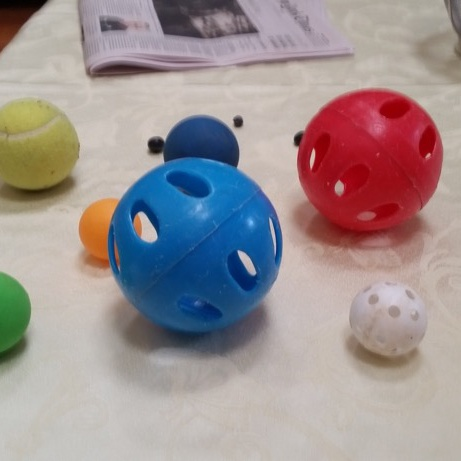ball: (104, 153, 290, 340), (292, 84, 447, 237)
